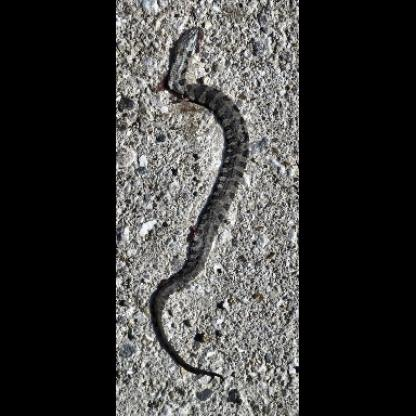Snake: (146, 19, 258, 384)
